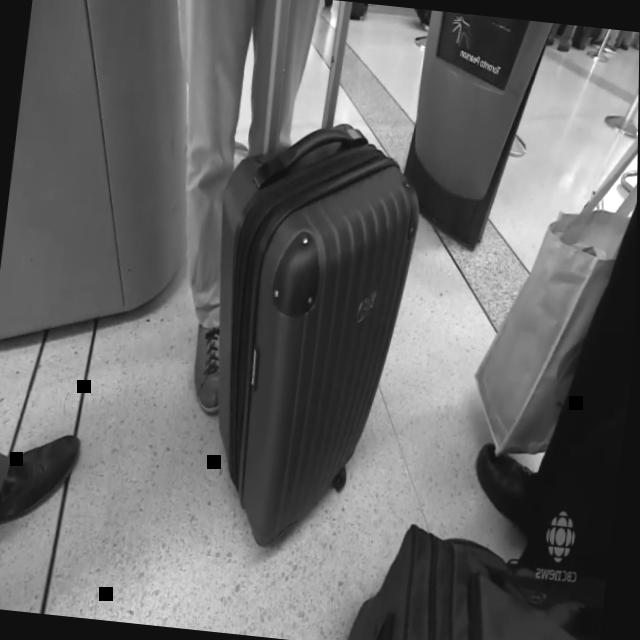luggage: (181, 106, 430, 567)
